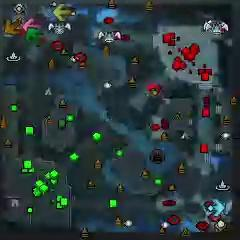x1: (23, 18, 41, 33)
x2: (53, 4, 72, 22)
x3: (207, 198, 225, 217)
x4: (26, 26, 43, 45)
x5: (3, 17, 22, 37)
